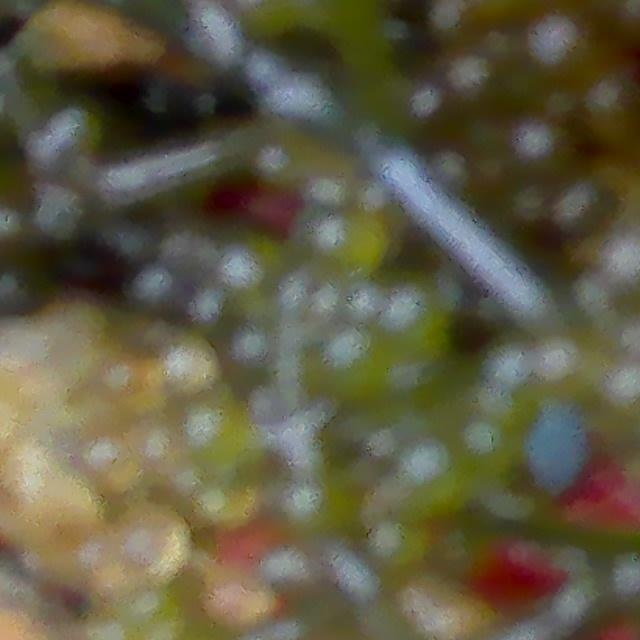SeaGrape: (508, 116, 582, 167), (587, 81, 640, 152), (522, 16, 587, 67), (429, 0, 483, 52), (438, 56, 498, 93)
